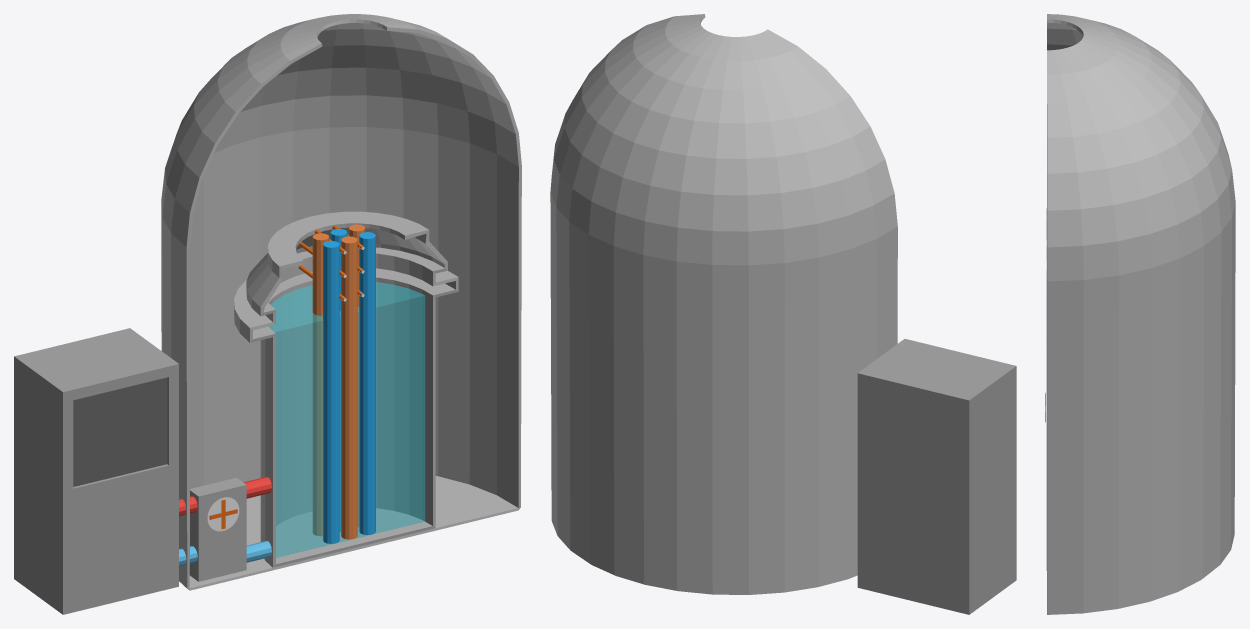
File: reactor.glb
The picture shows the model from 3 angles, left to right: view 1: azimuth 30°, elevation 25°; view 2: azimuth 150°, elevation 25°; view 3: azimuth 270°, elevation 25°; orthographic projection. The views are drawn at different scales.
Parts seen in each view (by area): view 1: Cylinder, Cube.001, Cylinder.001, Water, Control 3, Fuel 3, Control 1, Cube, Fuel 1, Fuel 2, Control 2, Circle; view 2: Cylinder, Cube.001; view 3: Cylinder, Cylinder.001.
Boxes of the visible parts, <box> form: Cylinder: <box>161,14,521,590</box>; Cube.001: <box>14,328,178,614</box>; Cylinder.001: <box>234,211,458,567</box>; Water: <box>269,282,425,557</box>; Control 3: <box>323,241,339,543</box>; Fuel 3: <box>341,236,357,539</box>; Control 1: <box>359,232,375,535</box>; Cube: <box>189,477,246,581</box>; Fuel 1: <box>312,233,329,536</box>; Fuel 2: <box>348,224,365,527</box>; Control 2: <box>330,229,347,531</box>; Circle: <box>207,497,239,531</box>; Cylinder: <box>550,14,897,594</box>; Cube.001: <box>857,339,1016,614</box>; Cylinder: <box>1047,14,1235,614</box>; Cylinder.001: <box>1046,208,1046,570</box>.
Size of the model in its own units: 8.28 by 8.89 by 3.06.
